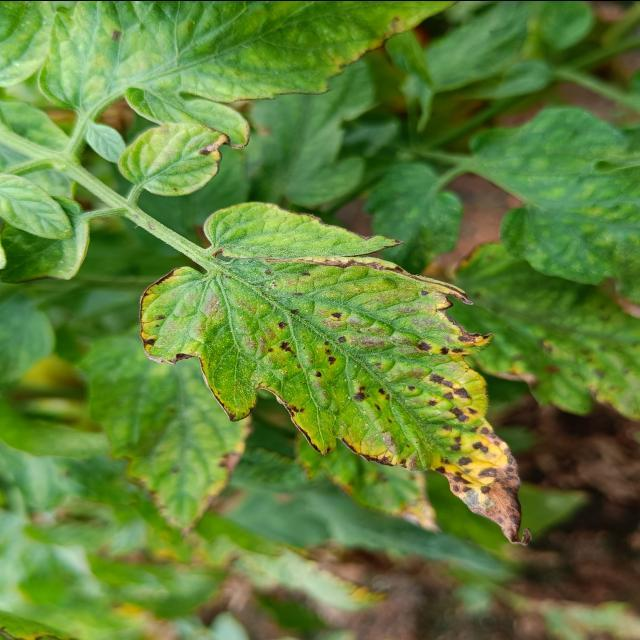Tomato mosaic virus leaf: (134, 199, 536, 549), (116, 120, 230, 198)
